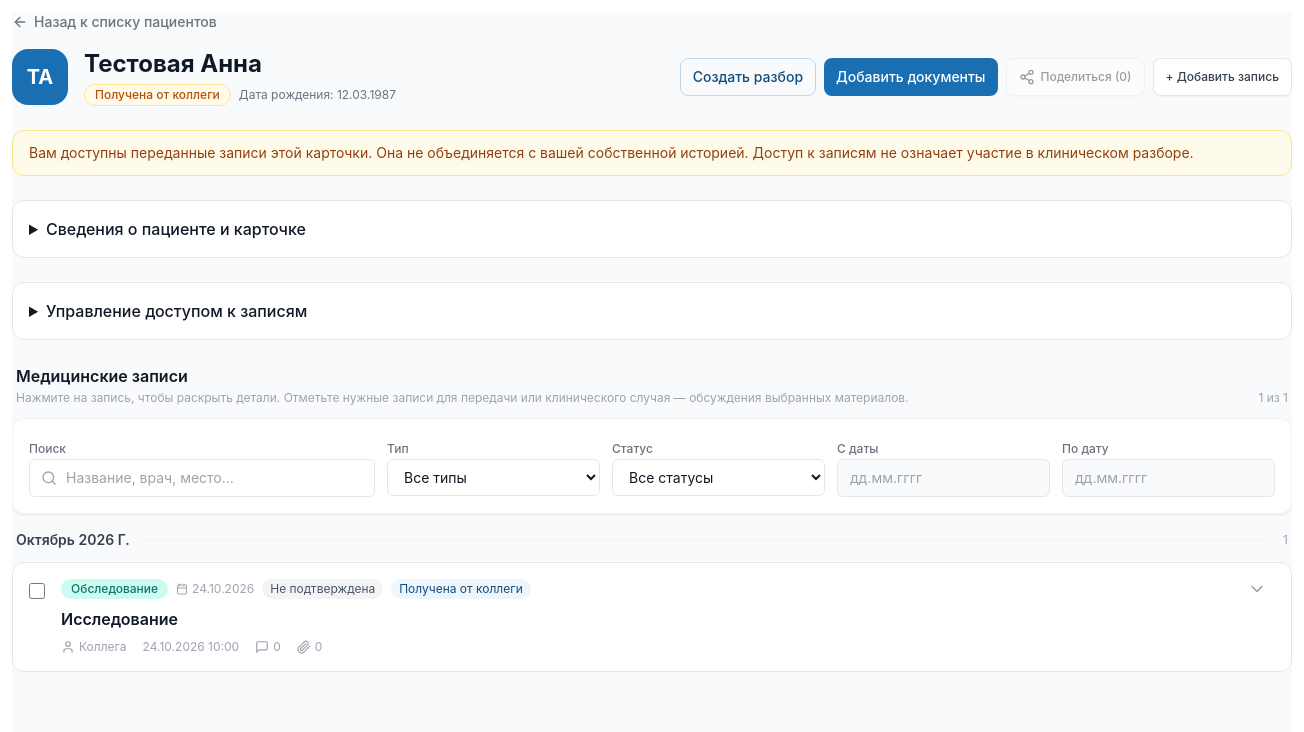
keeps identity and timeline primary while retaining access management and technical details
Expected: the heading "Тестовая Анна" is shown, 84,49 -> 262,78
Expected: the text "Не подтверждена" is shown, 262,579 -> 383,599
Click the heading "Сведения о пациенте и карточке" at (176, 229), box 46,219 -> 306,239
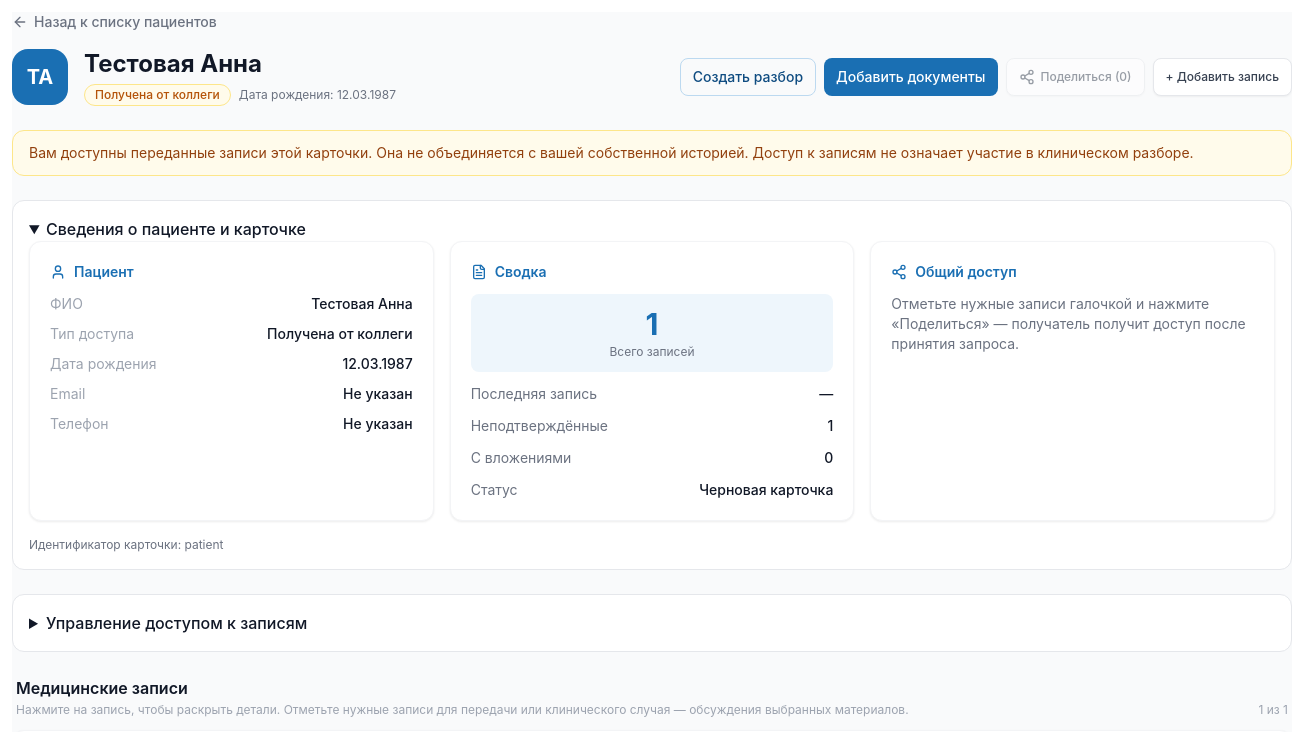
Expected: the heading "Выданные доступы" is not shown
Now the text "Идентификатор карточки: patient" is shown, box 29,537 -> 224,552
Click the heading "Управление доступом к записям" at (177, 623), box 46,613 -> 307,633
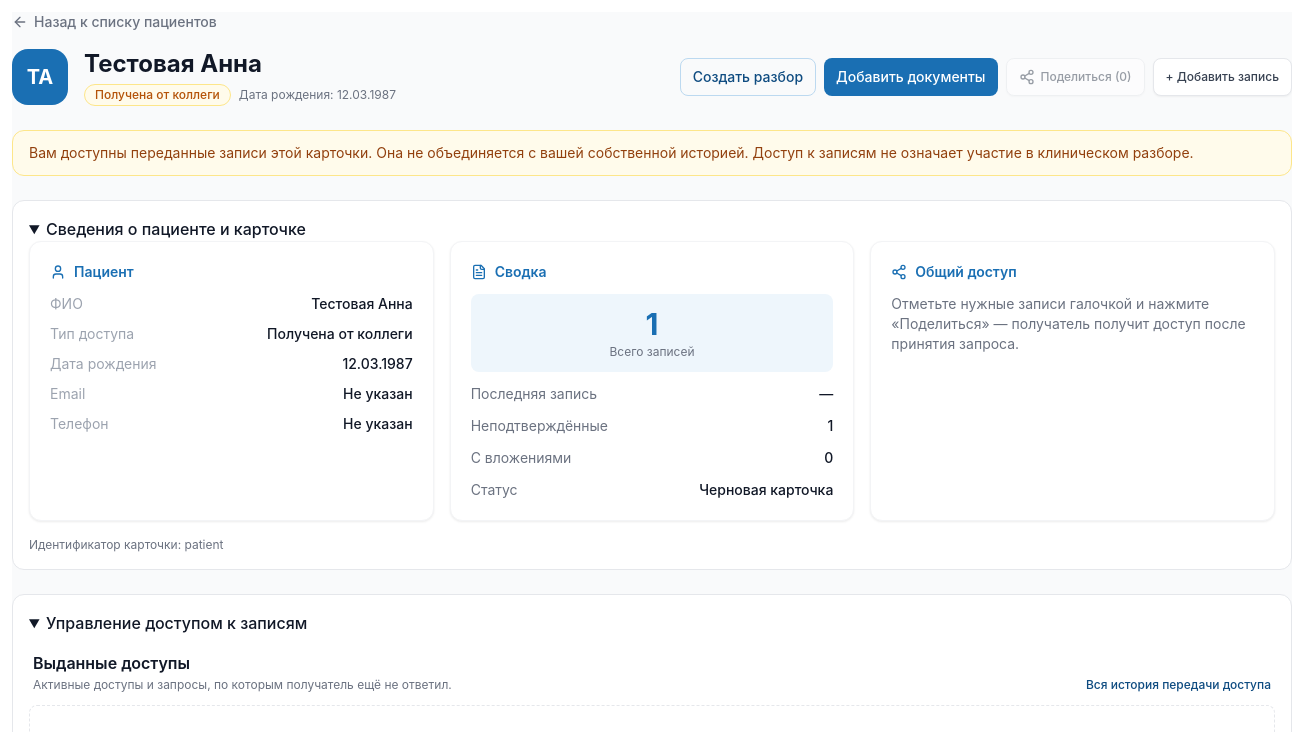
Now the heading "Выданные доступы" is shown, box 33,653 -> 190,673
